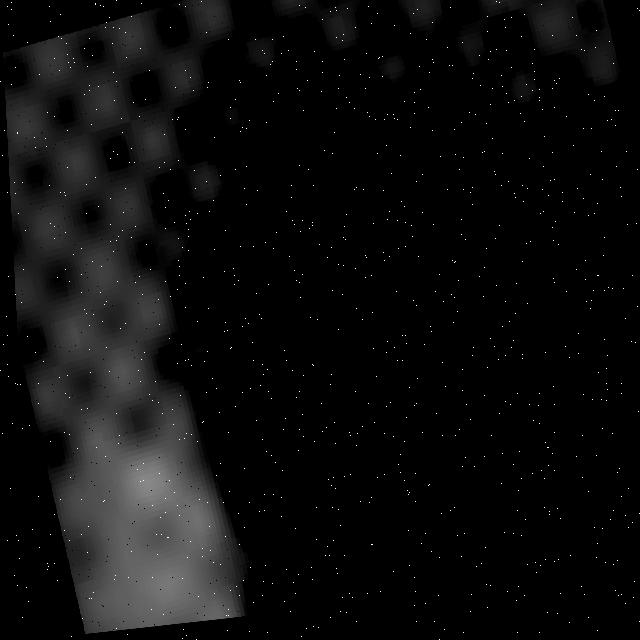person: (8, 158, 291, 640)
